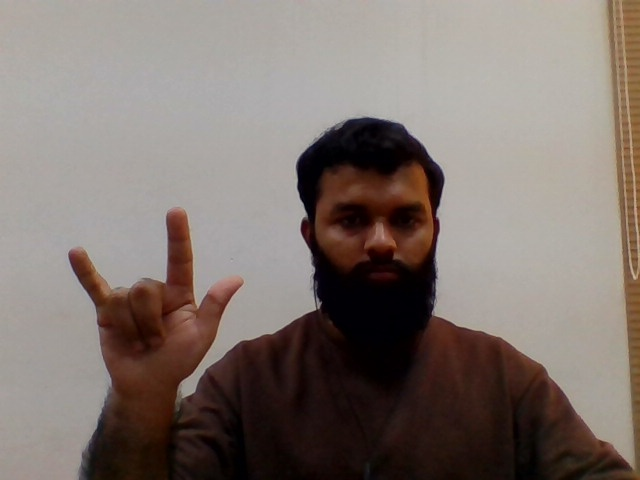I Love you: (60, 202, 255, 397)
